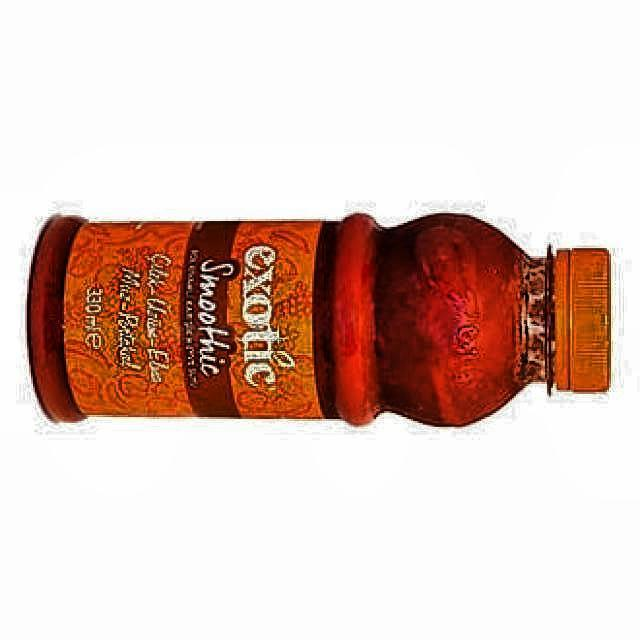plastic: (27, 214, 610, 426)
